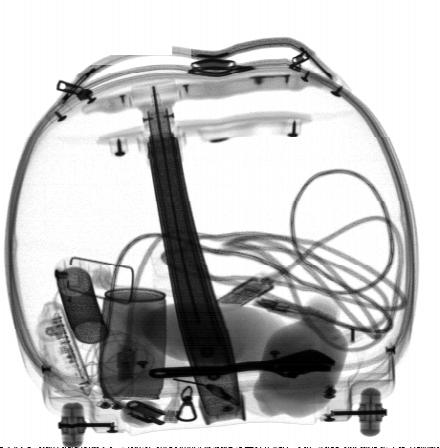Wrench: (148, 349, 336, 379)
